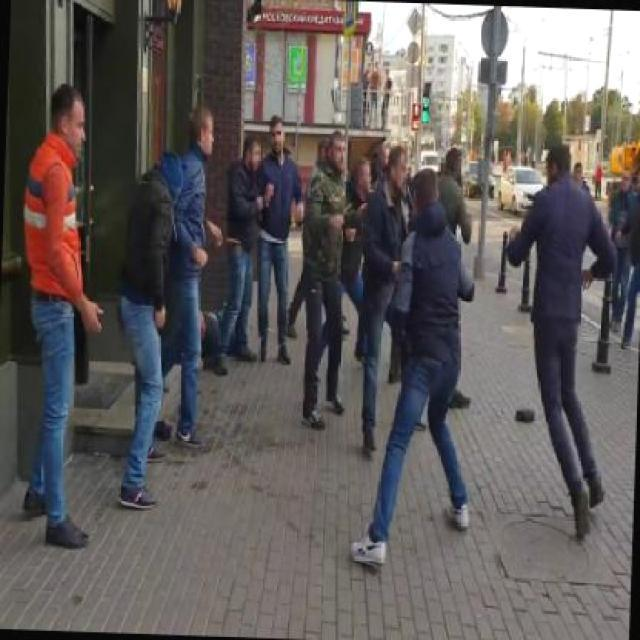non-fight: (110, 102, 222, 527), (12, 81, 110, 552), (223, 112, 302, 370)
